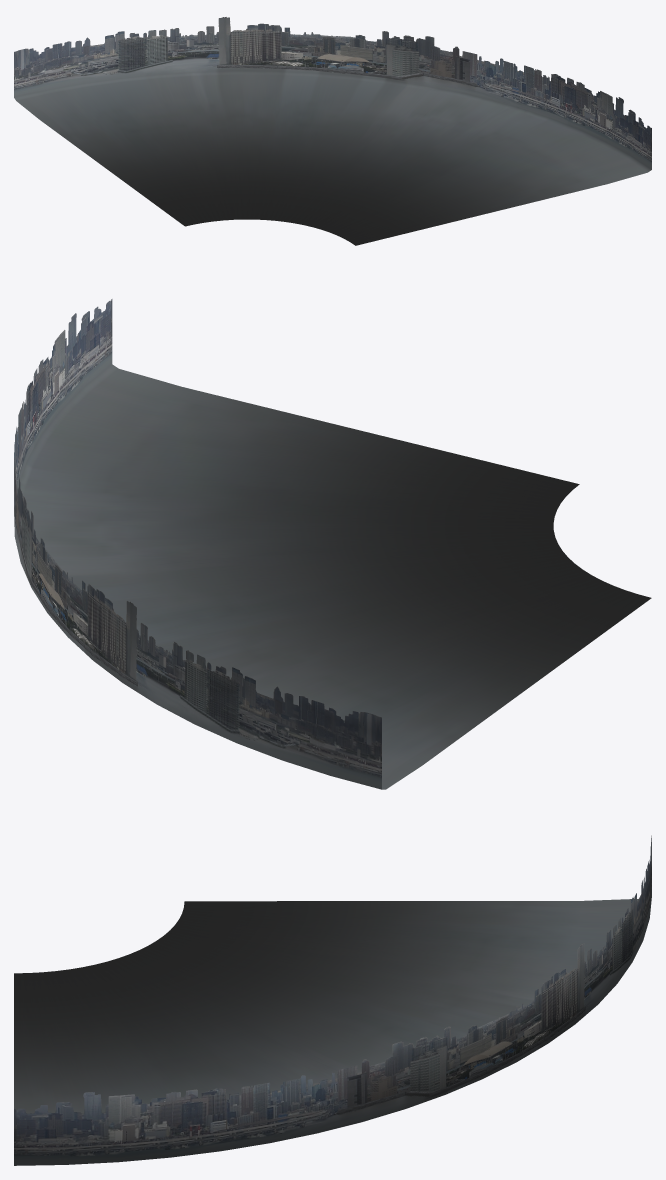
File: jctFarBuildings.fbx
3 views of the same model, one above another, from view 1: azimuth 30°, elevation 25°; view 2: azimuth 150°, elevation 25°; view 3: azimuth 270°, elevation 25° (orthographic). The views are drawn at different scales.
Parts seen in each view (by area): view 1: jctFarBuildings; view 2: jctFarBuildings; view 3: jctFarBuildings.
Part boxes in pixels (left/top/right/bottom): jctFarBuildings: left=14, top=17, right=651, bottom=245; jctFarBuildings: left=14, top=299, right=651, bottom=789; jctFarBuildings: left=14, top=835, right=651, bottom=1165.
Size of the model in its own units: 31831 by 4576 by 31831.
